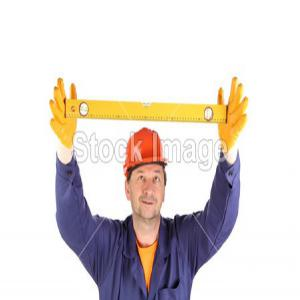red: (121, 127, 171, 219)
